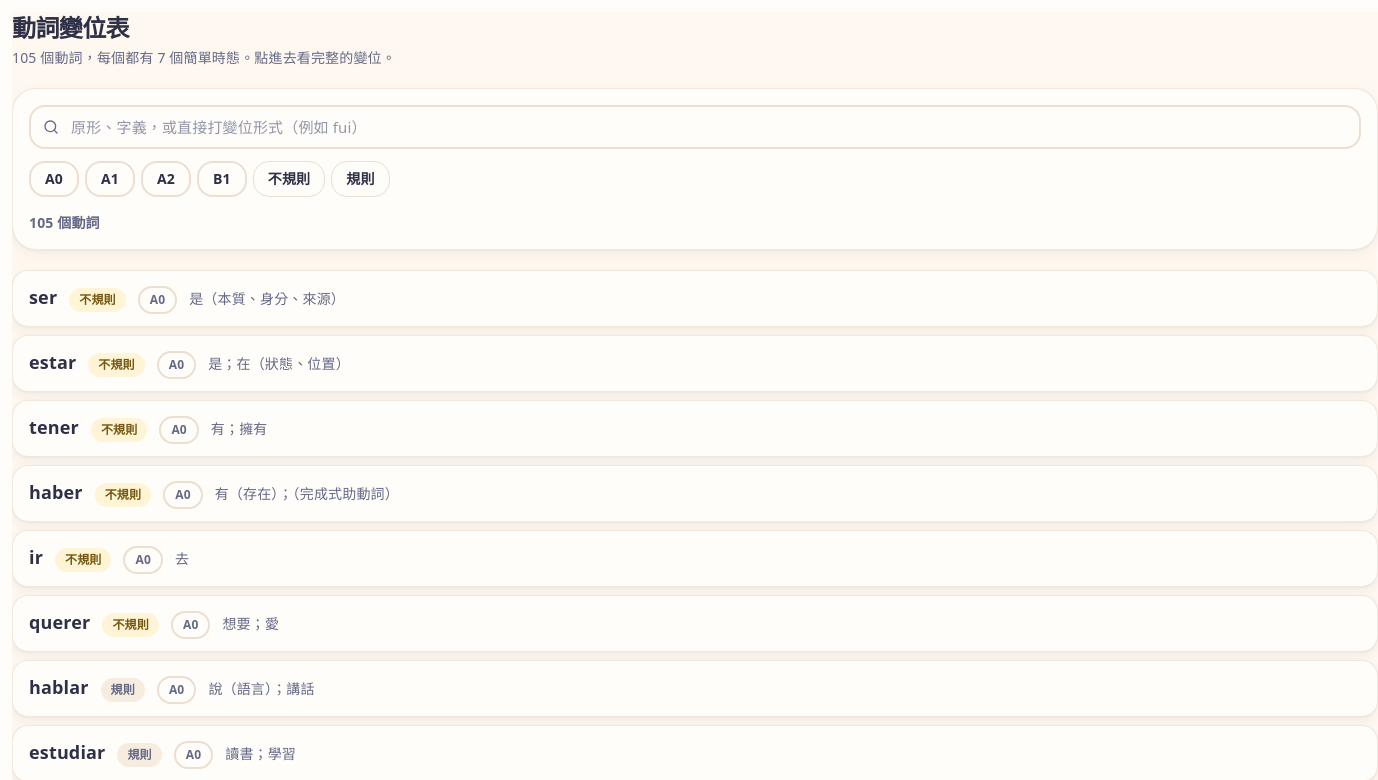
it: 動詞列表 › 規則／不規則篩得動
Click the button "不規則": [289, 179] box [253, 161, 325, 197]
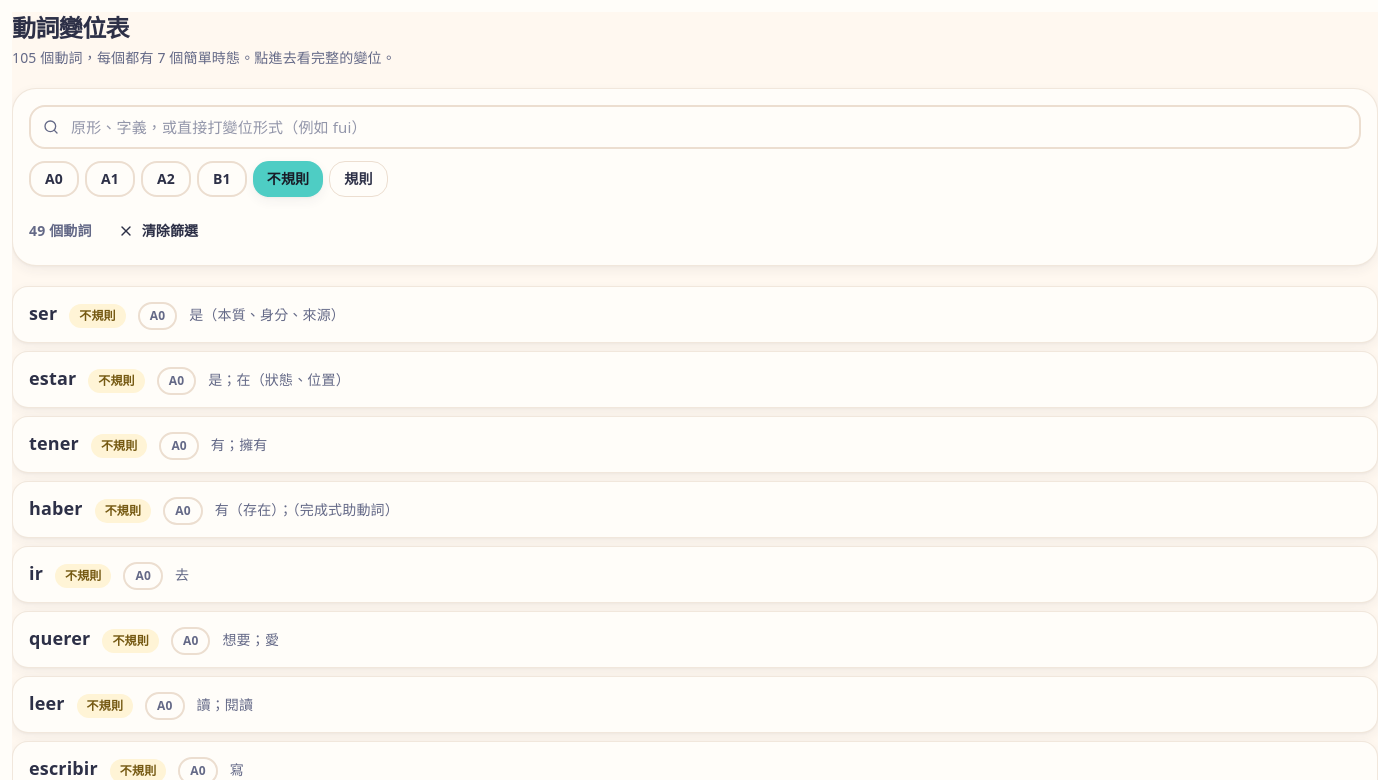
Expected: the number of list items is 49
